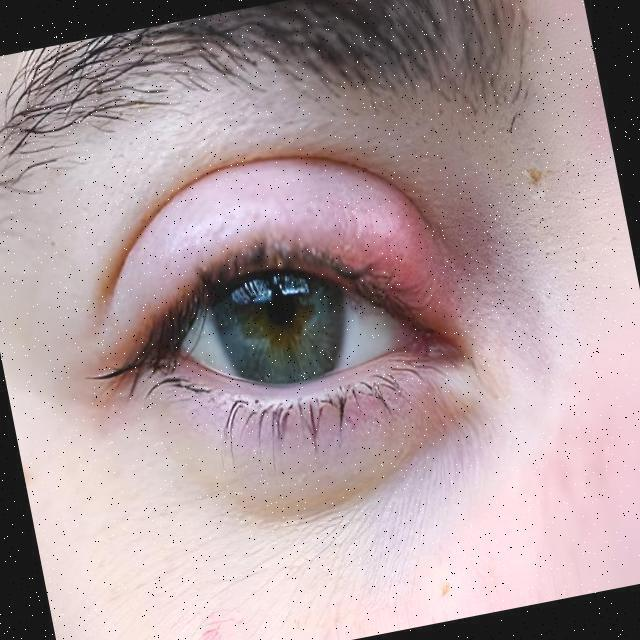Stye: (217, 158, 474, 352)
